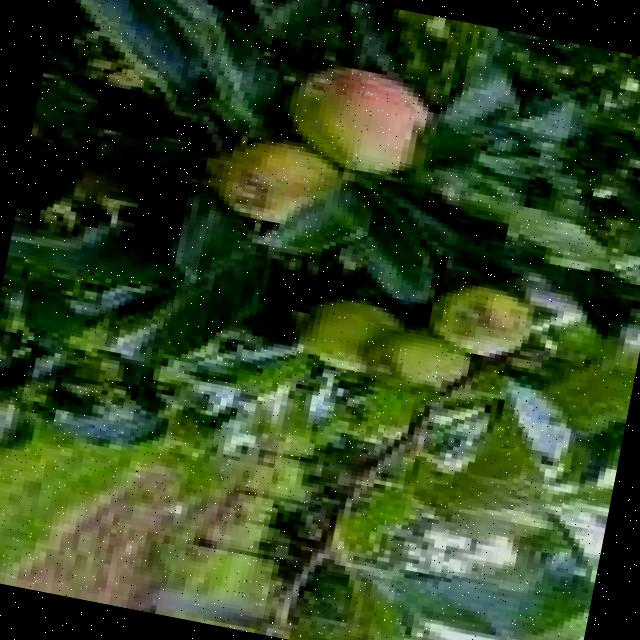Unripe: (277, 54, 438, 182), (421, 276, 536, 365)
